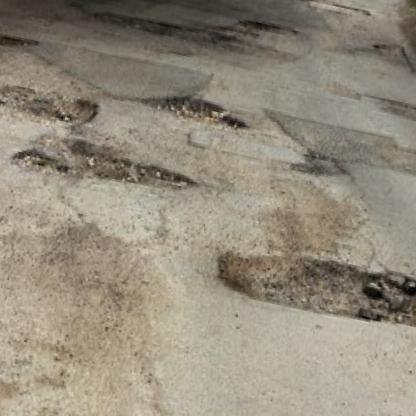pothole: (210, 230, 416, 347), (9, 128, 200, 203), (0, 71, 101, 134), (87, 8, 225, 52), (136, 87, 249, 134), (281, 0, 371, 18), (238, 14, 296, 39), (0, 25, 38, 52)
